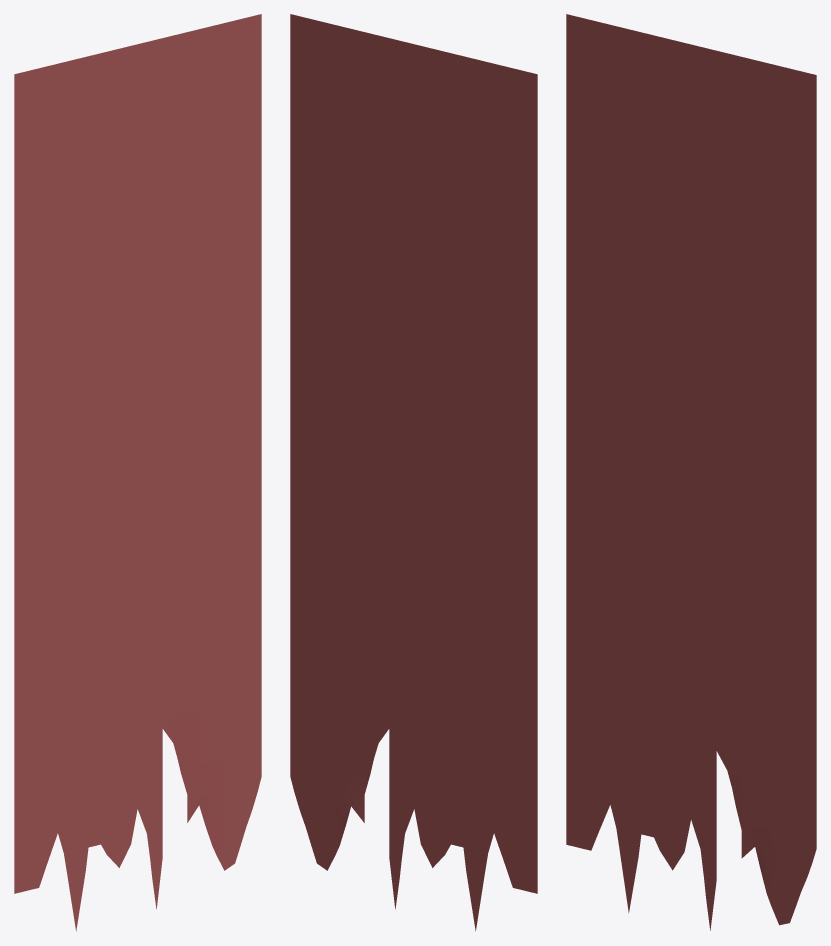
Rendered from Banderin.fbx.
3 views of the same model, side by side, from view 1: azimuth 30°, elevation 25°; view 2: azimuth 150°, elevation 25°; view 3: azimuth 330°, elevation 25° (orthographic).
Visible parts, largest first — view 1: pPlane1; view 2: pPlane1; view 3: pPlane1.
Part boxes in pixels (box(x1,y1,x2,y2)): pPlane1: box(14, 14, 261, 931); pPlane1: box(290, 14, 537, 931); pPlane1: box(566, 14, 816, 930).
Bounding box in the file's own units: 0.4131 × 1.39 × 0.00222.
